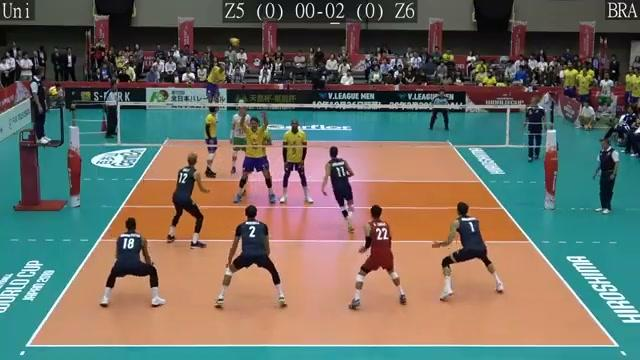ball: (229, 39, 240, 46)
